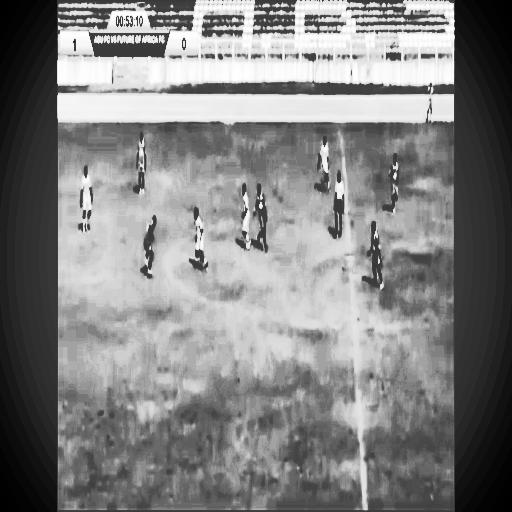referee: (334, 169, 346, 245)
team1: (72, 150, 96, 244), (190, 200, 211, 282), (234, 182, 254, 250), (318, 131, 333, 198)
team2: (135, 212, 164, 294), (368, 215, 388, 303), (251, 176, 274, 246), (132, 128, 148, 201), (389, 148, 402, 219)
